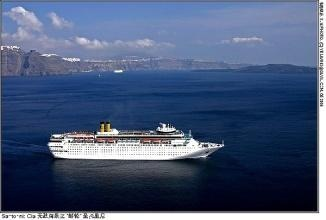youlun: (46, 118, 230, 160)
